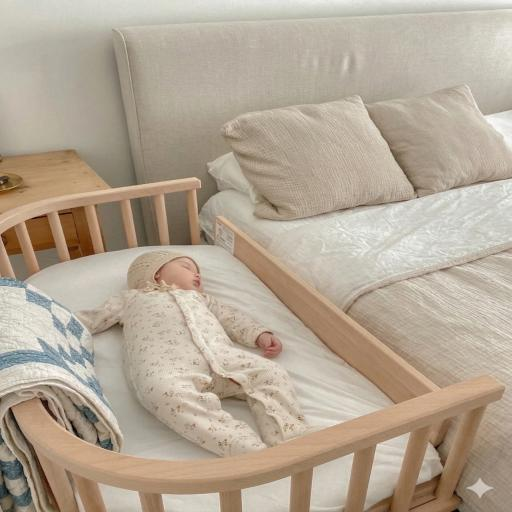baby: (76, 251, 321, 456)
crib: (13, 218, 503, 511)
